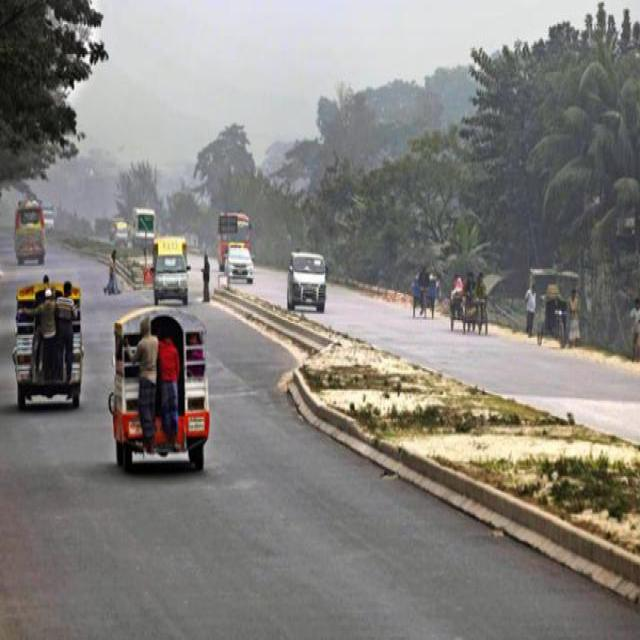19: (286, 249, 326, 307)
20: (458, 294, 488, 334)
5: (222, 243, 252, 280)
7: (110, 303, 208, 467), (14, 277, 82, 405), (150, 232, 188, 300)
Truck: (12, 203, 46, 261), (215, 209, 249, 264)
